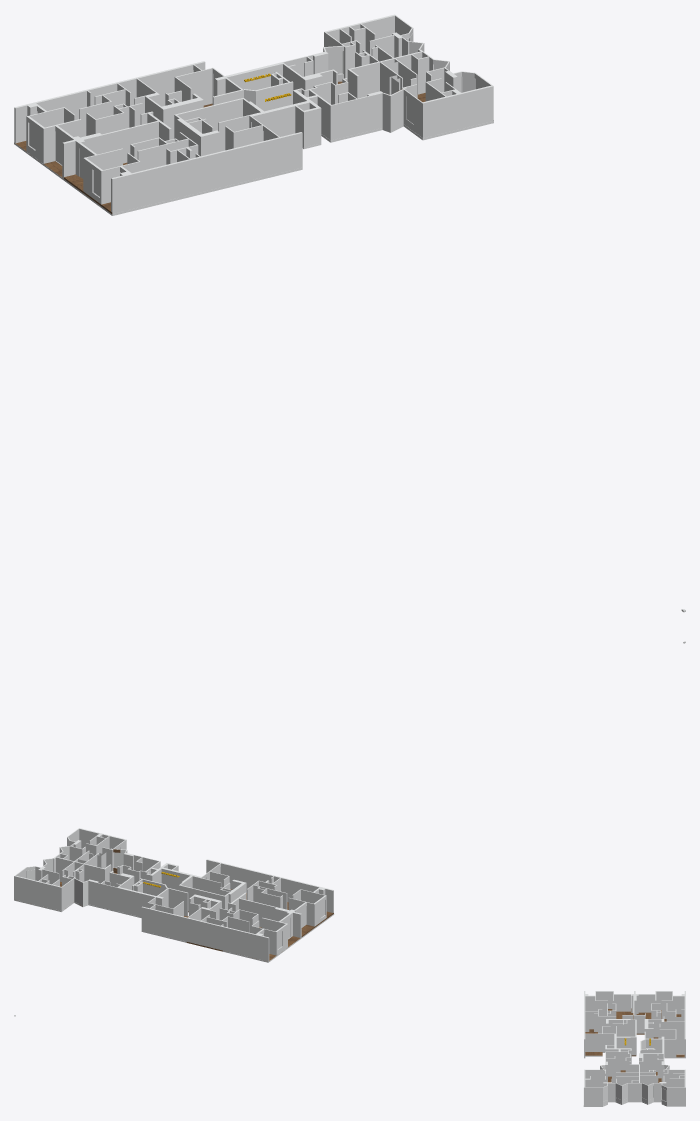
File: PISO-7.glb
The picture shows the model from 3 angles, top to bottom: view 1: azimuth 30°, elevation 25°; view 2: azimuth 150°, elevation 25°; view 3: azimuth 270°, elevation 25°; orthographic projection. The views are drawn at different scales.
Visible parts, largest first — view 1: walls-parent; view 2: walls-parent; view 3: walls-parent.
Part boxes in pixels (left/top/right/bottom): walls-parent: left=14, top=14, right=685, bottom=612; walls-parent: left=14, top=641, right=685, bottom=962; walls-parent: left=14, top=991, right=685, bottom=1106.
Bounding box in the file's own units: 34.15 × 3.52 × 100.
Materials: 8 (7 with a texture image).
